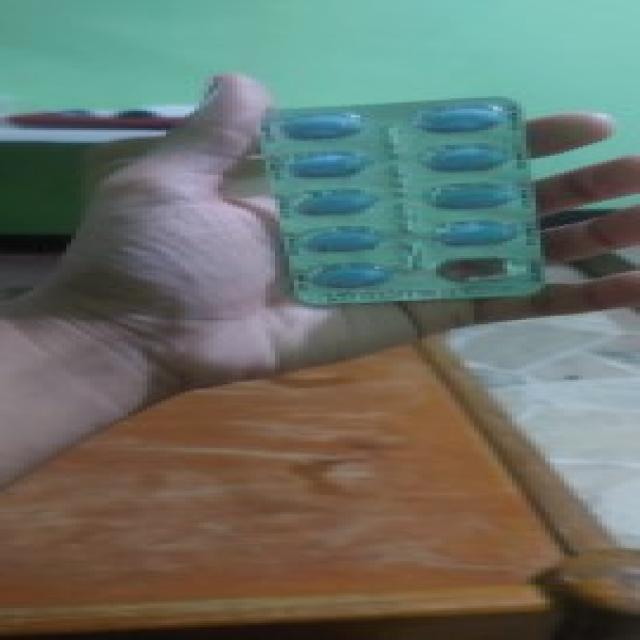Cacat: (252, 95, 550, 308)
Kemasan: (412, 248, 521, 290)
